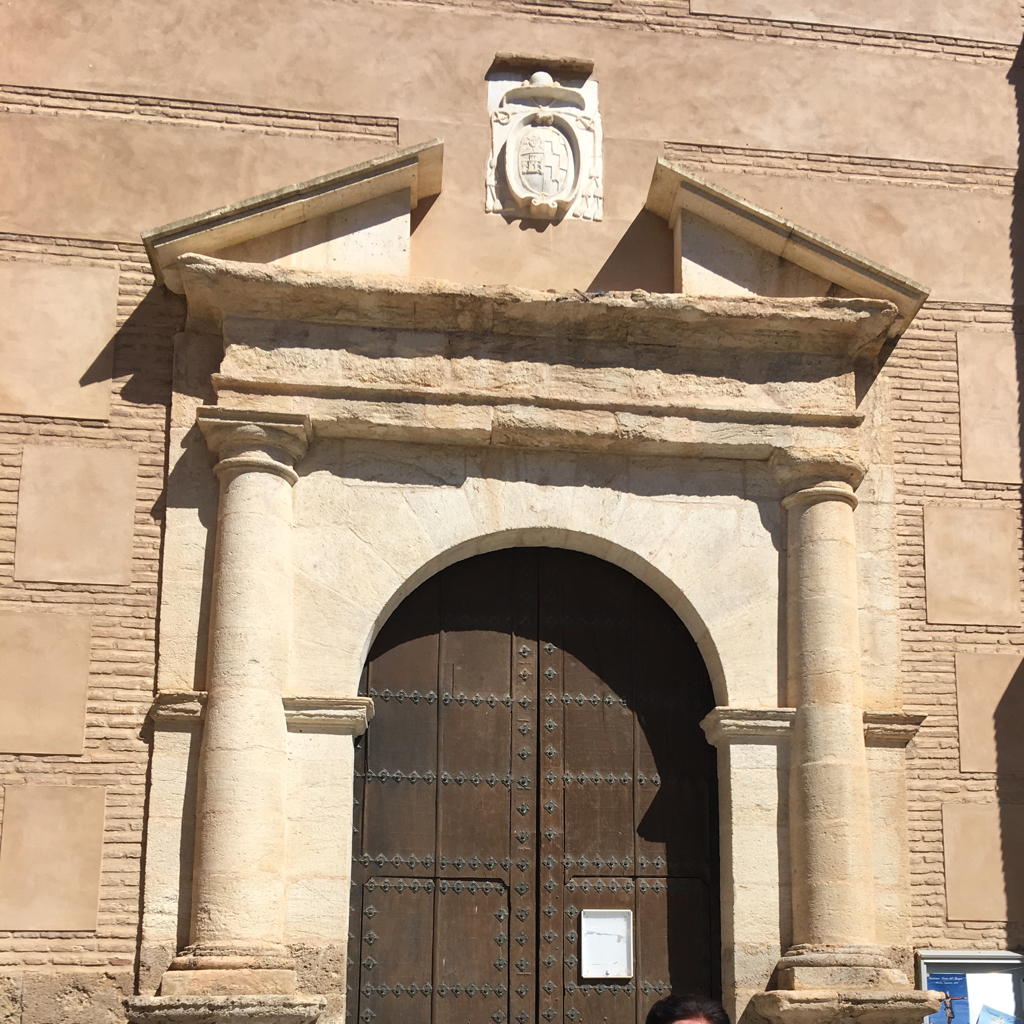arco-medio-punto: (342, 518, 746, 773)
fronton-partido: (133, 143, 931, 345)
